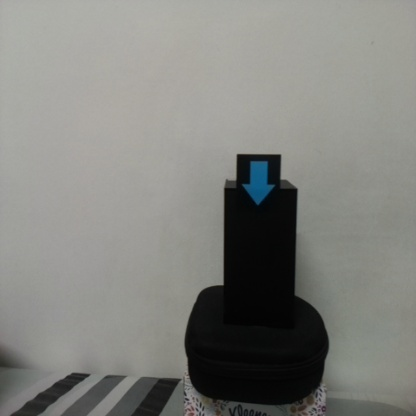id_2: (236, 154, 281, 212)
